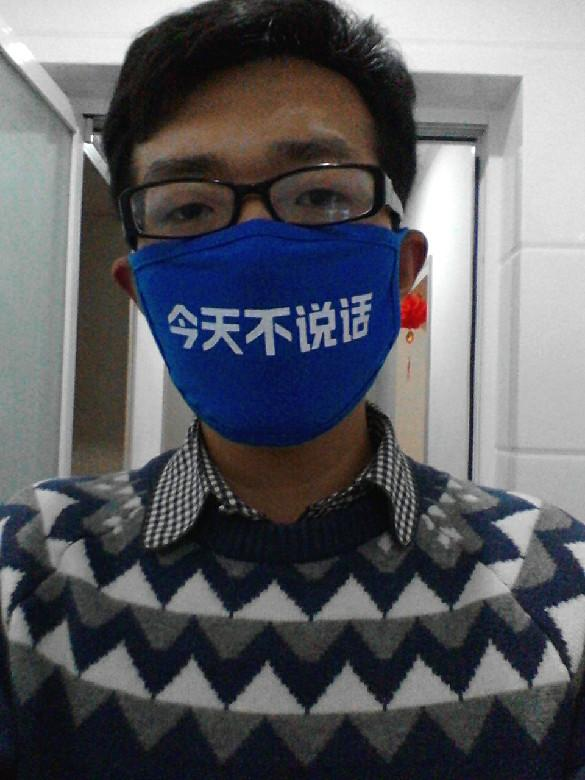OK: (116, 138, 406, 428)
